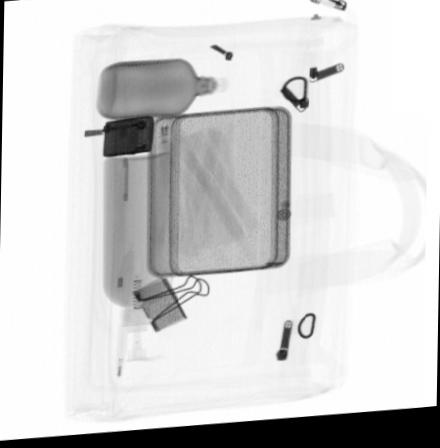Lighter: (102, 118, 154, 158)
